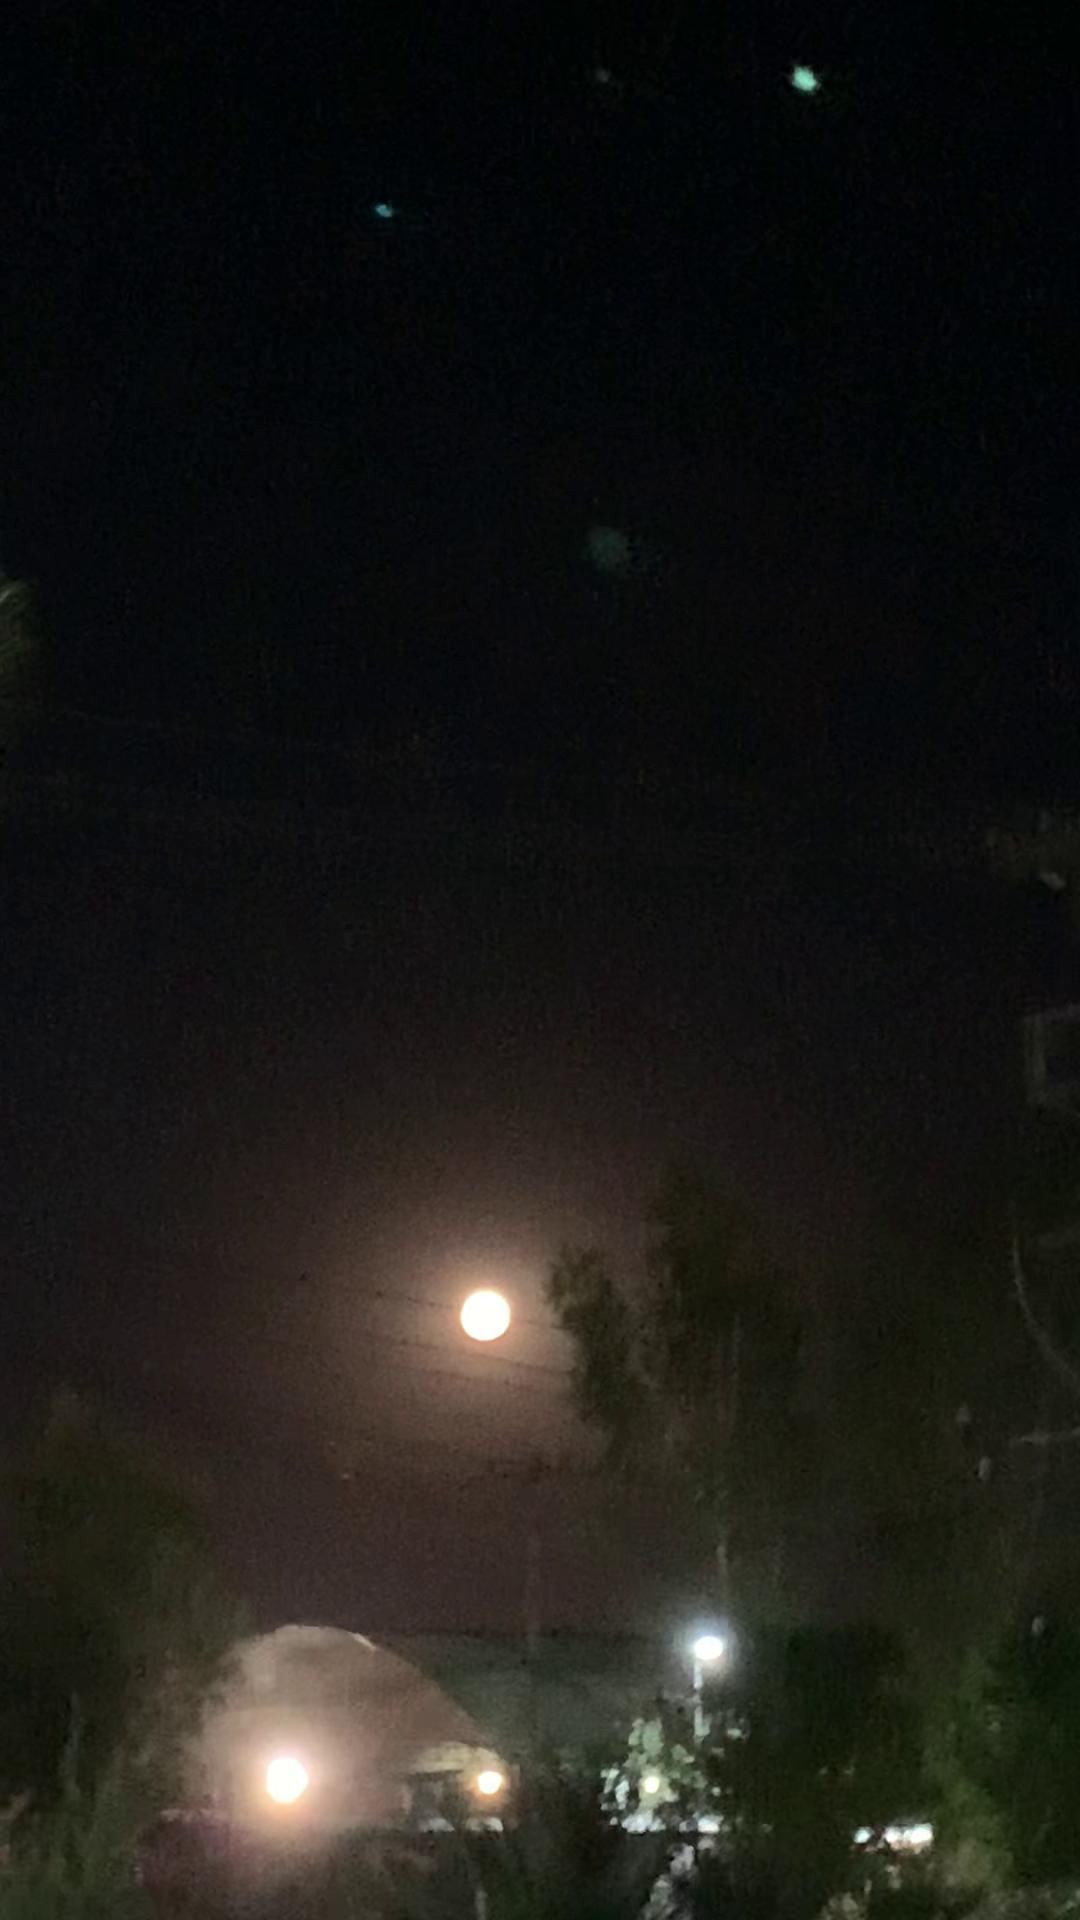moon: (442, 1284, 531, 1360)
